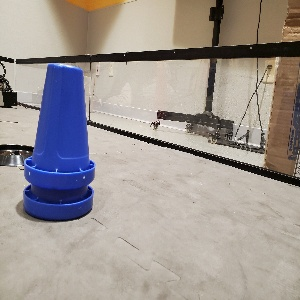Blue_2: (23, 61, 96, 221)
